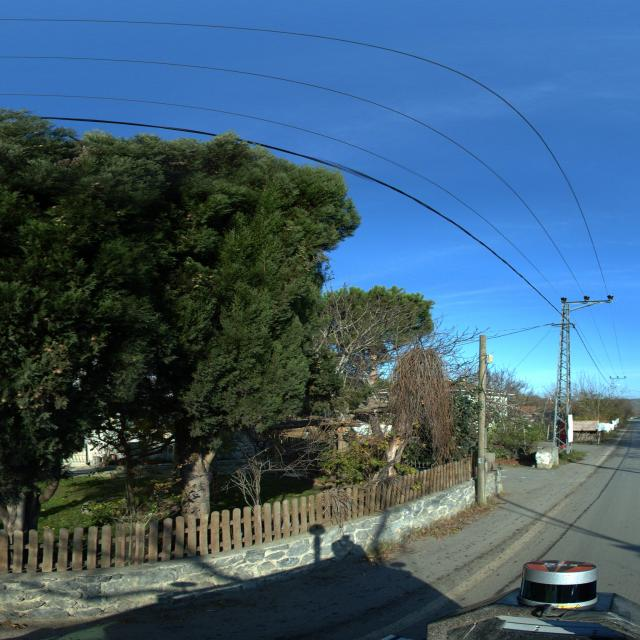Utility Pole Information Plate: (568, 398, 571, 402)
